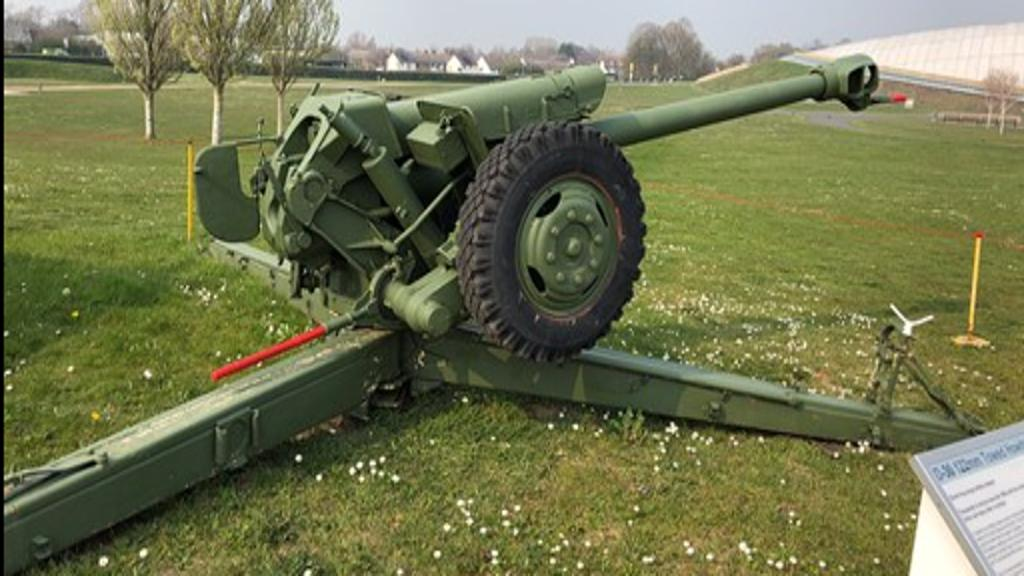ART: (0, 48, 994, 576)
